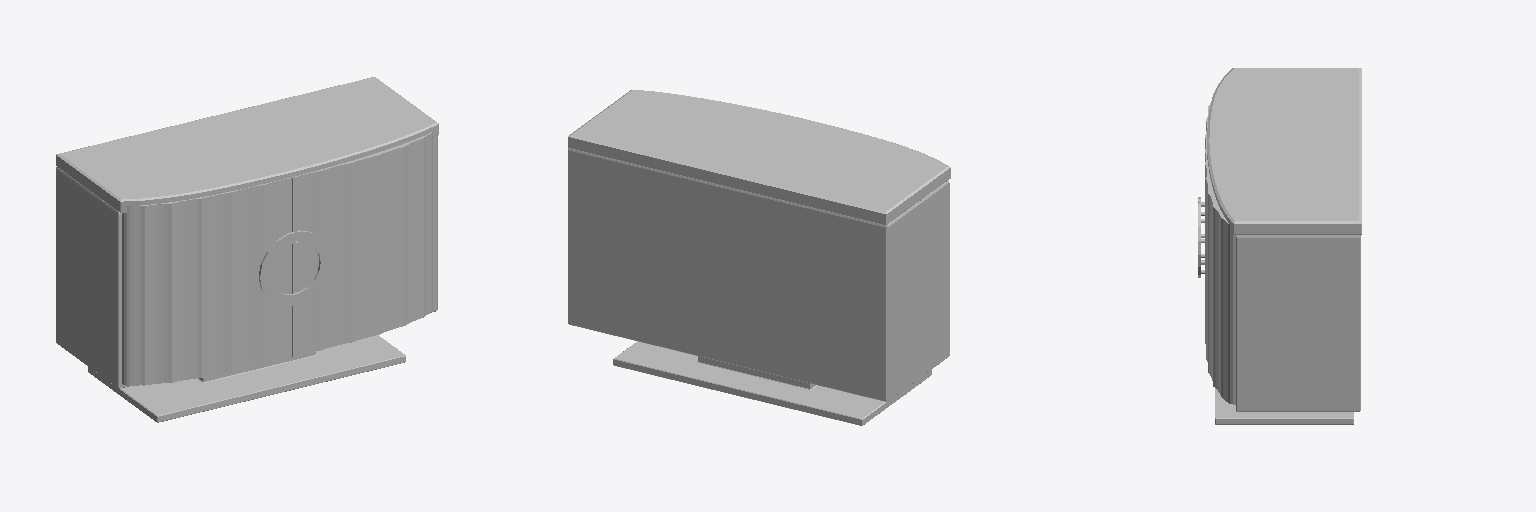
Rendered from mobtv.obj.
3 renders of one model, left to right at view 1: azimuth 30°, elevation 25°; view 2: azimuth 150°, elevation 25°; view 3: azimuth 270°, elevation 25°, orthographic.
Visible parts, largest first — view 1: Line02, Line01, Line03, Box02, Box03, Cylinder01; view 2: Box02, Line01, Box03; view 3: Line01, Box02, Line03, Box03.
Part boxes in pixels (x1,y1,x2,y2): Line02: (122,178,291,385); Line01: (56,77,438,212); Line03: (292,132,432,356); Box02: (56,136,437,388); Box03: (88,335,405,422); Cylinder01: (259,230,329,306); Box02: (568,148,949,401); Line01: (568,90,950,224); Box03: (613,341,931,425); Line01: (1207,68,1361,234); Box02: (1235,235,1360,411); Line03: (1205,150,1235,404); Box03: (1215,388,1353,424).
Size of the model in its own units: 30504 by 20338 by 13548.